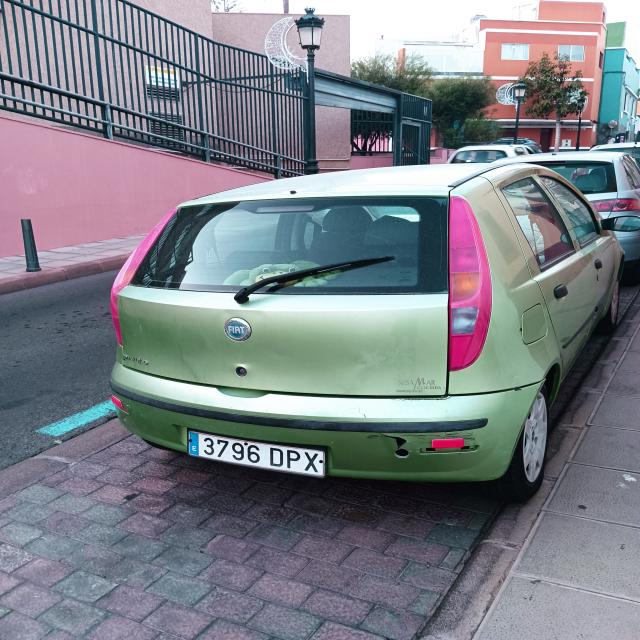football: (188, 430, 325, 476)
